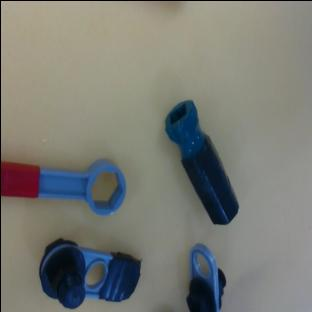part_1_bad: (31, 234, 143, 312)
part_1_good: (186, 242, 225, 311)
part_2_bad: (157, 96, 247, 229)
part_3_good: (0, 158, 125, 214)
